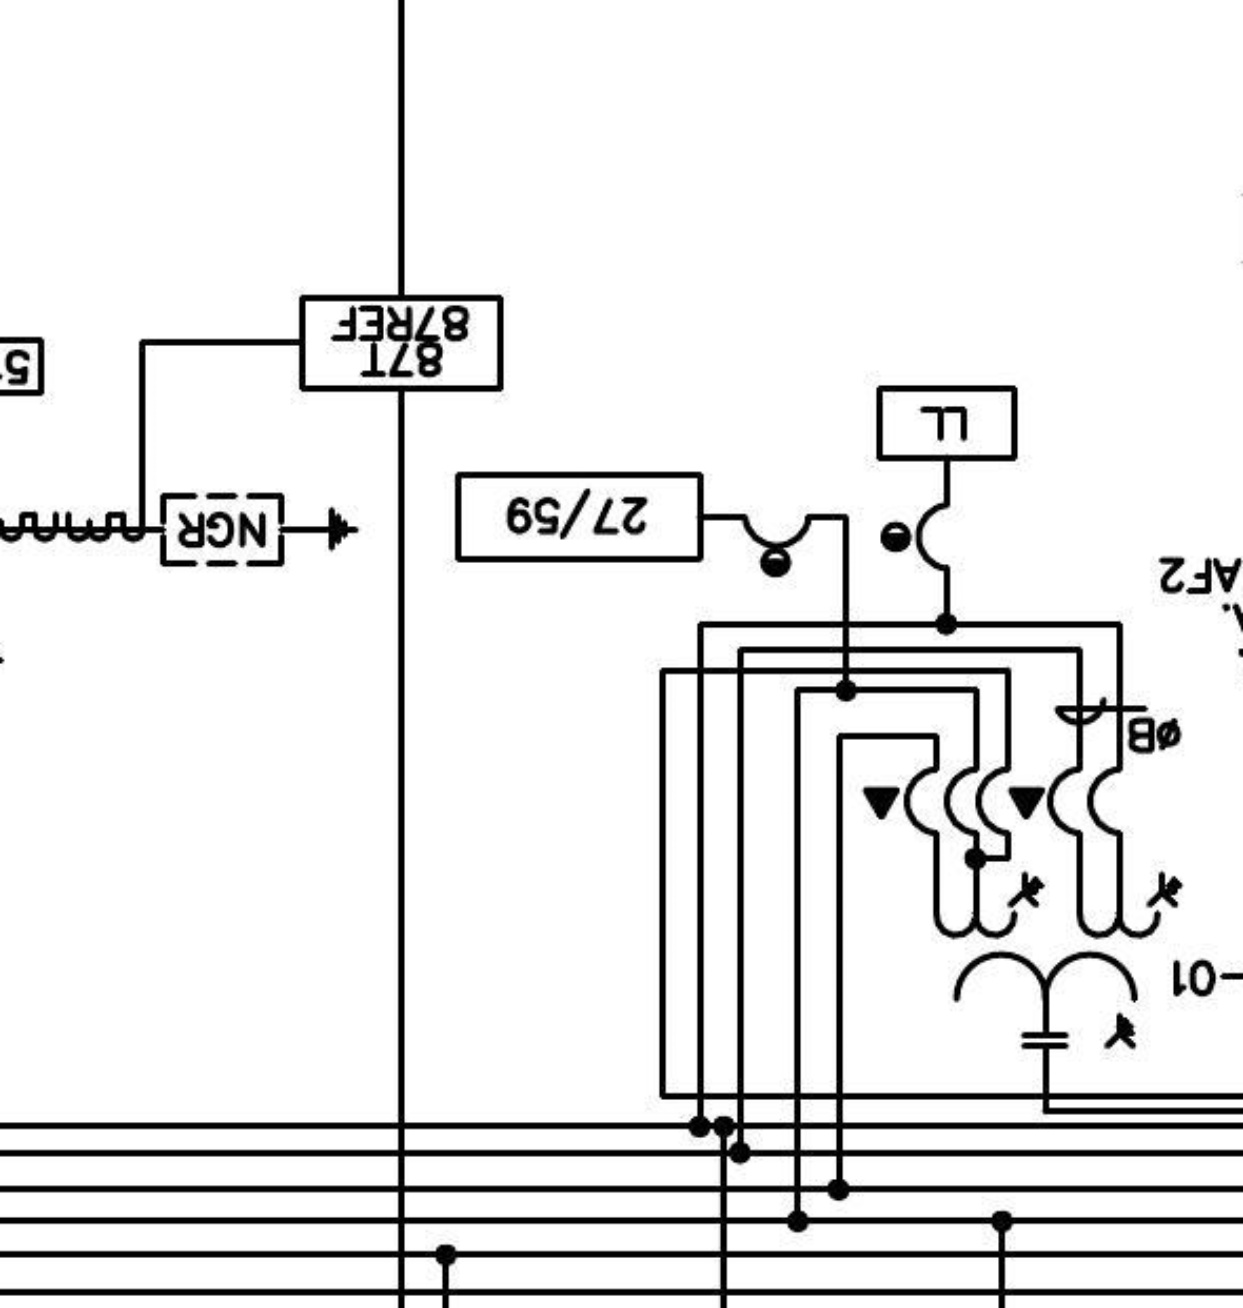115_cvt_3p: (932, 870, 1185, 1050)
LL: (876, 384, 1018, 462)
NGR_future: (159, 492, 360, 568)
